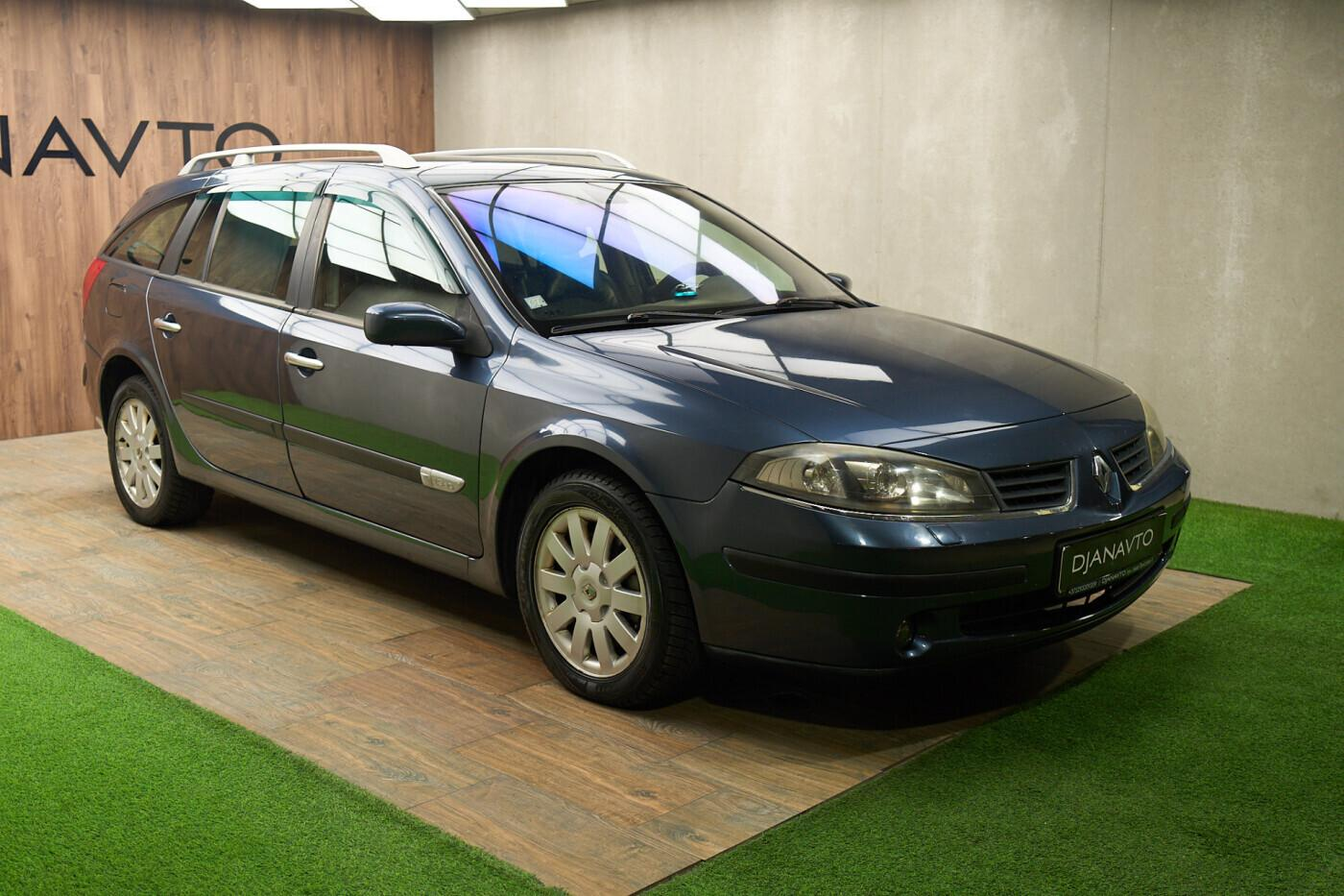Laguna_2005-2007: (79, 143, 1195, 747)
